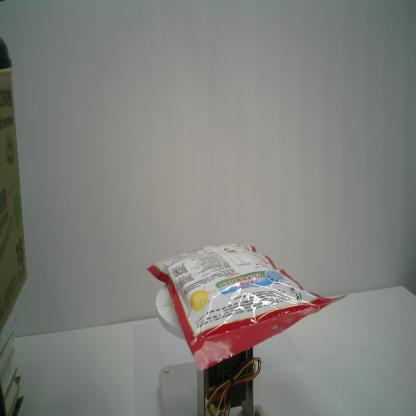Instant Drink: (146, 241, 349, 372)
